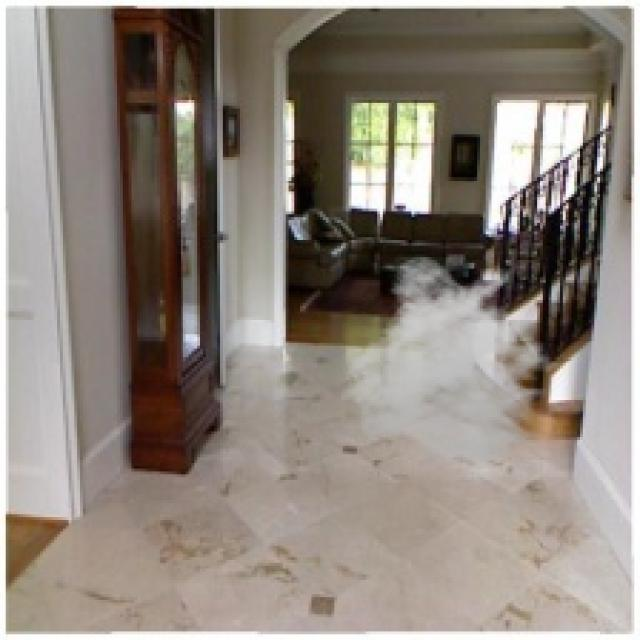Smoke: (337, 257, 574, 469)
